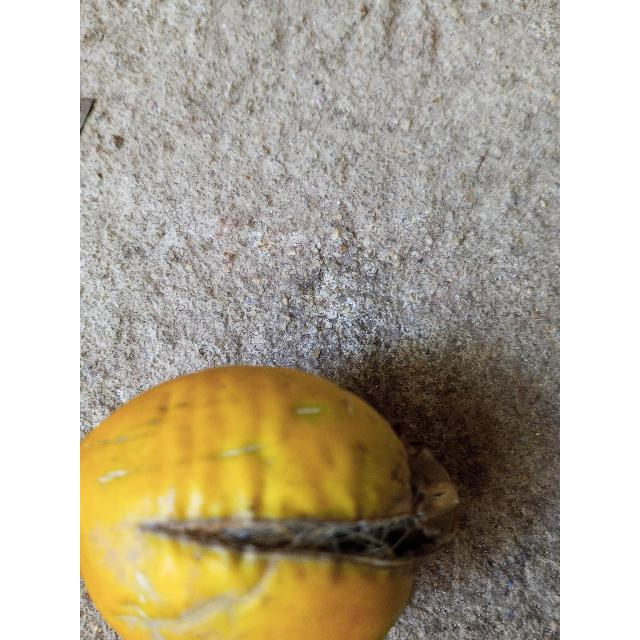damaged: (80, 366, 456, 640)
